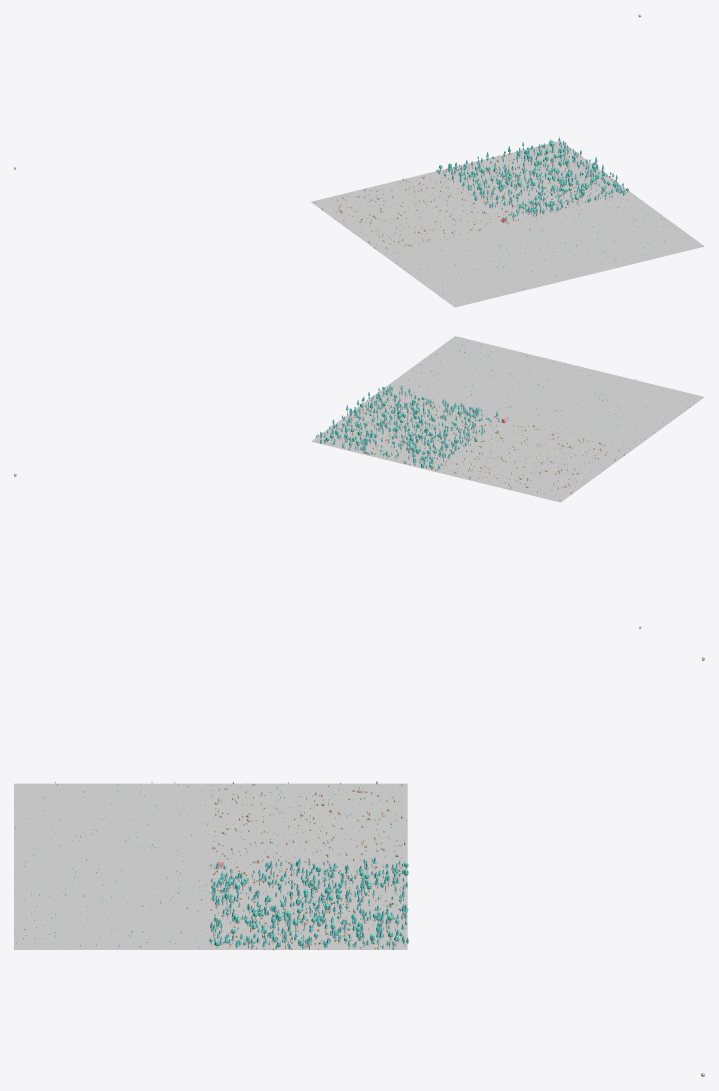
The model's file is MapTest.gltf.
3 renders of one model, top to bottom at view 1: azimuth 30°, elevation 25°; view 2: azimuth 150°, elevation 25°; view 3: azimuth 270°, elevation 25°, orthographic. The views are drawn at different scales.
Visible parts, largest first — view 1: Biome - Extras 1, Biome - Rock 1, Biome - Forest 1; view 2: Biome - Extras 1, Biome - Forest 1, Biome - Rock 1; view 3: Biome - Extras 1, Biome - Rock 1, Biome - Forest 1.
Part boxes in pixels (x1,y1,x2,y2): Biome - Extras 1: [317, 141, 704, 307]; Biome - Rock 1: [311, 188, 506, 254]; Biome - Forest 1: [482, 141, 632, 221]; Biome - Extras 1: [311, 336, 704, 501]; Biome - Forest 1: [313, 389, 507, 453]; Biome - Rock 1: [471, 419, 605, 502]; Biome - Extras 1: [14, 783, 407, 949]; Biome - Rock 1: [211, 783, 407, 866]; Biome - Forest 1: [211, 867, 407, 949].
Size of the model in its own units: 502 by 9.27 by 351.
